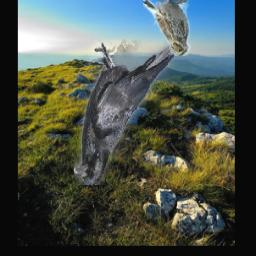Crow: (73, 41, 177, 186)
Sparrow: (142, 0, 191, 57)
